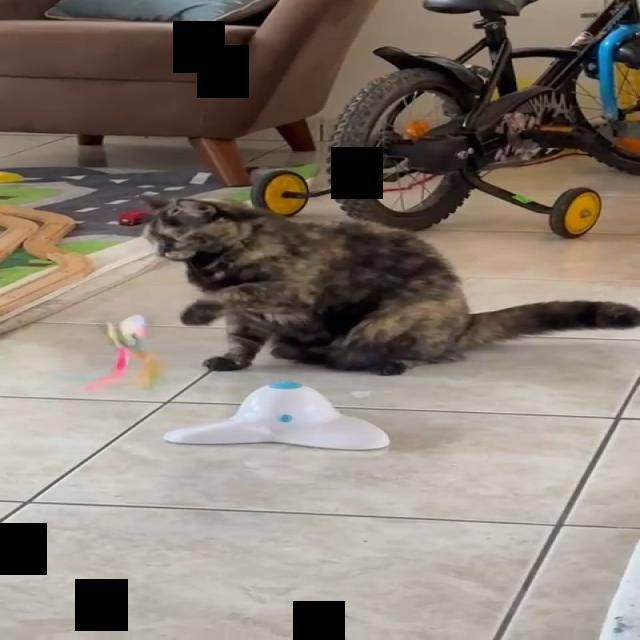authorized: (140, 195, 639, 376)
